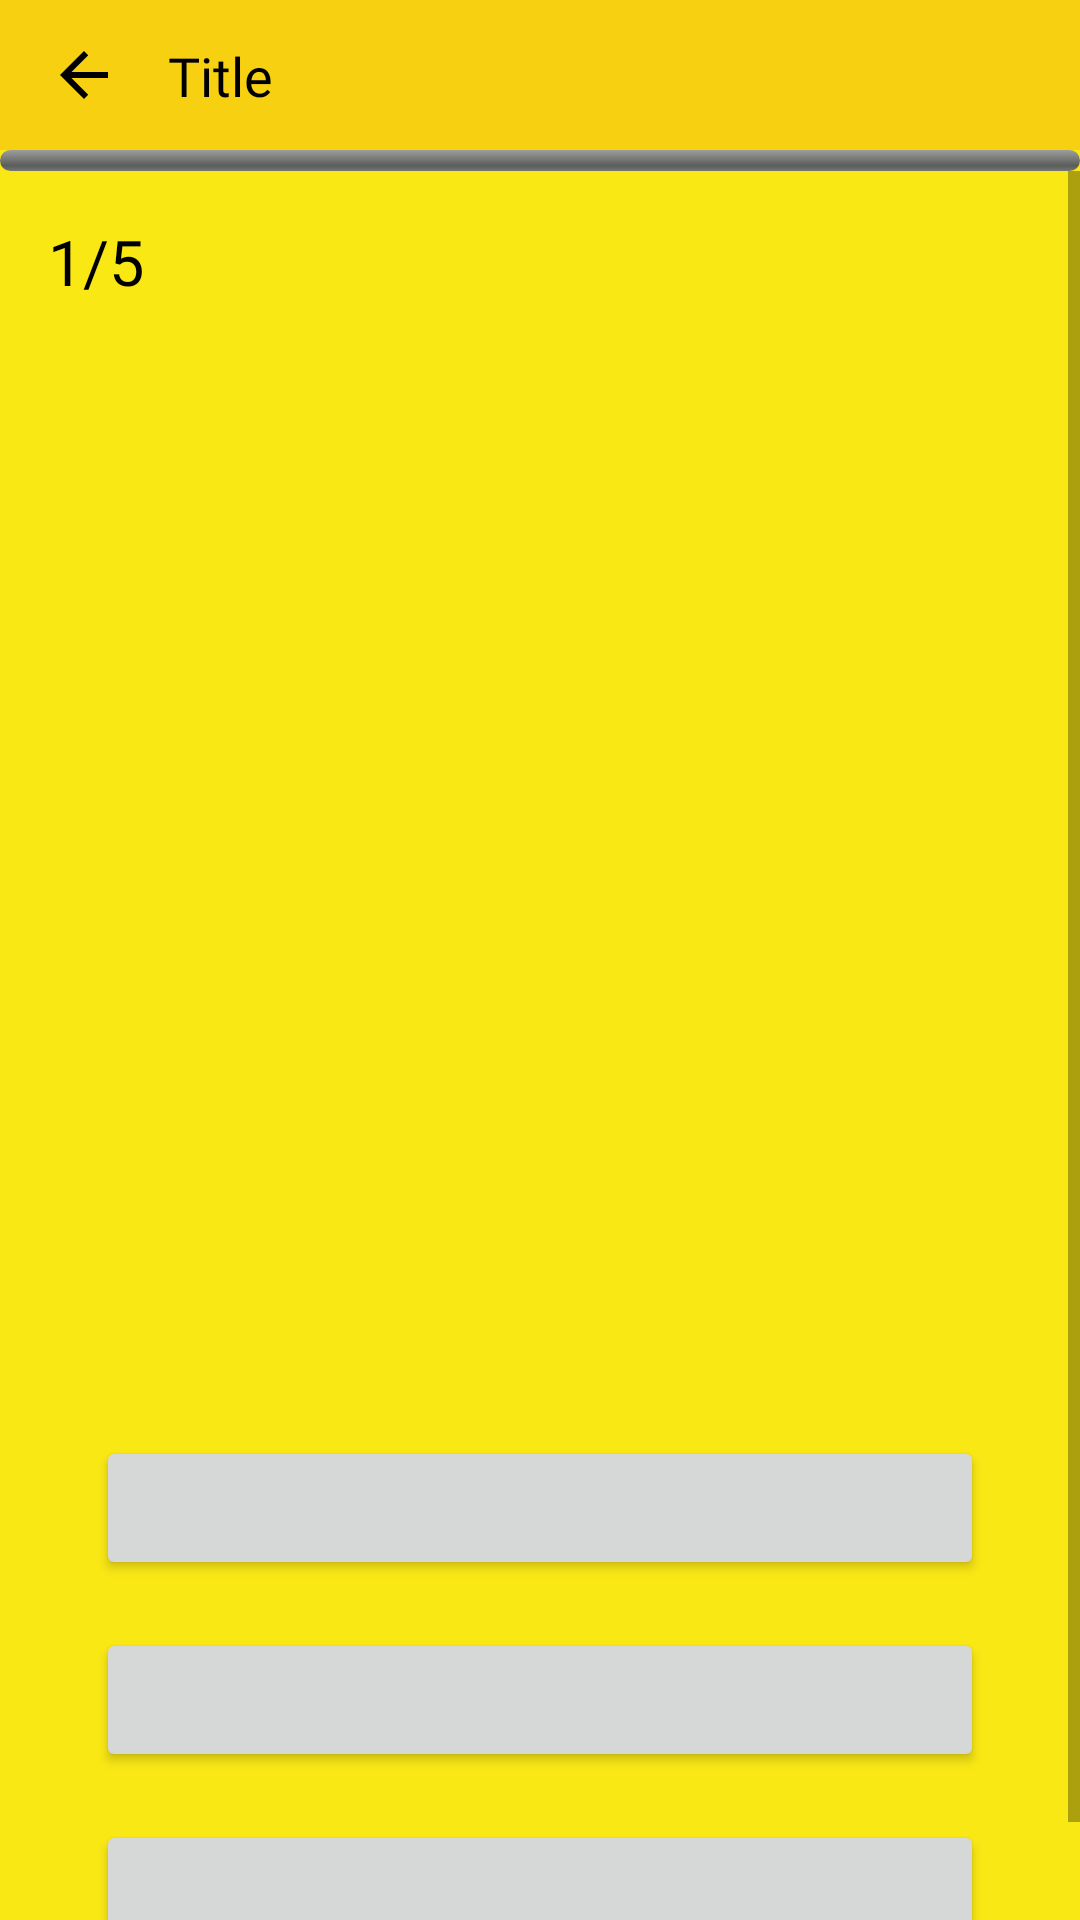

Named icons in this screenshot (1080px x 1920px) and their centers, point (x, y):
arrow back: point (84, 75)
